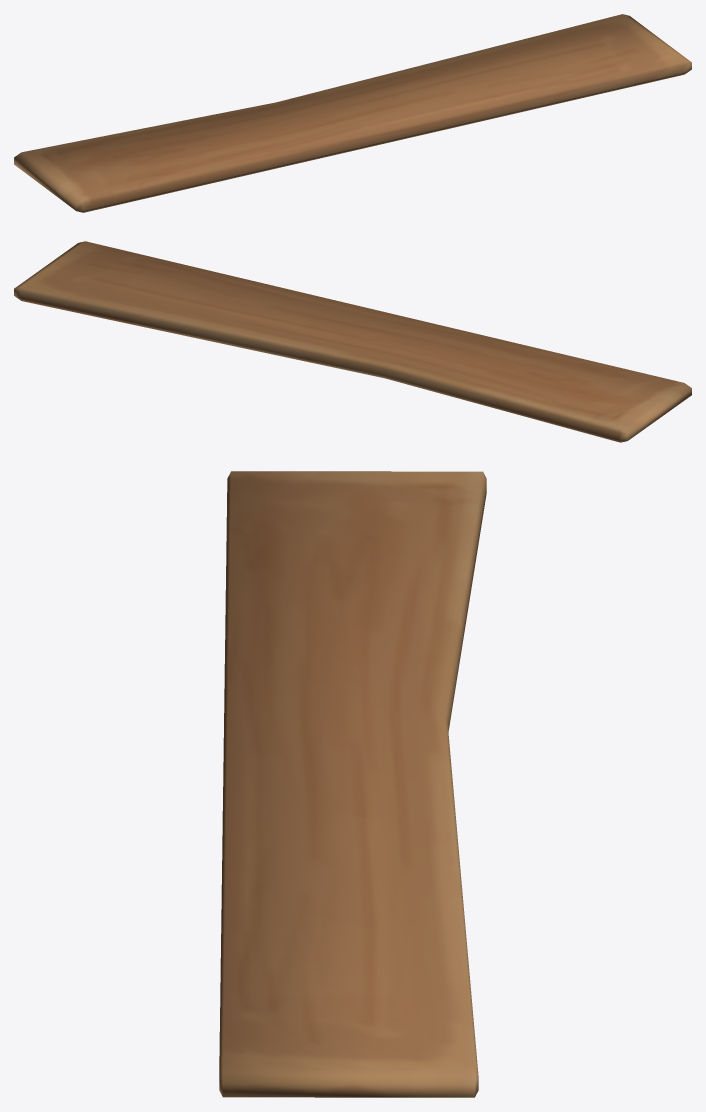
File: Slat3.fbx
The picture shows the model from 3 angles, top to bottom: view 1: azimuth 30°, elevation 25°; view 2: azimuth 150°, elevation 25°; view 3: azimuth 270°, elevation 25°; orthographic projection. The views are drawn at different scales.
Parts seen in each view (by area): view 1: polySurface1167; view 2: polySurface1167; view 3: polySurface1167.
Part boxes in pixels (x1,y1,x2,y2): polySurface1167: [14, 14, 691, 212]; polySurface1167: [14, 241, 691, 442]; polySurface1167: [219, 471, 486, 1097].
Size of the model in its own units: 18.9 by 0.6088 by 3.56.
